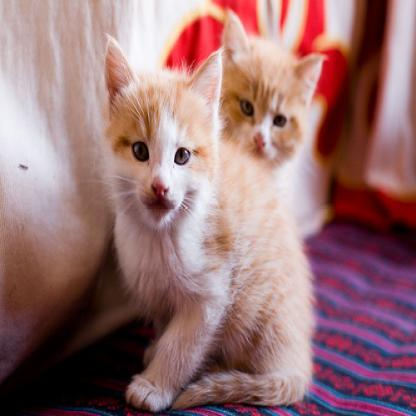cat: (97, 37, 312, 408), (216, 16, 331, 163)
